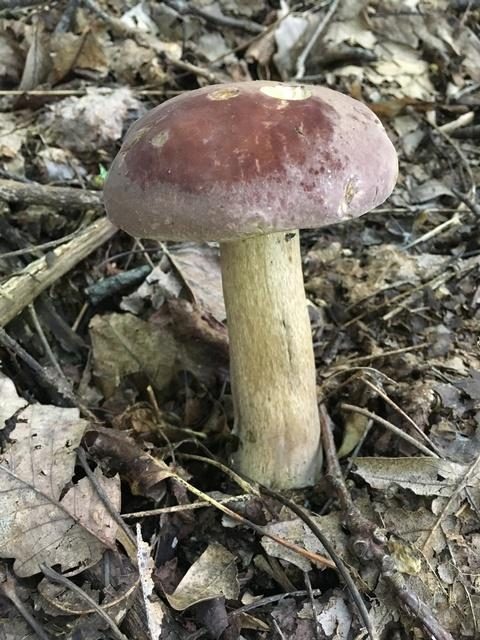Non-edible Mushroom: (101, 78, 399, 491)
